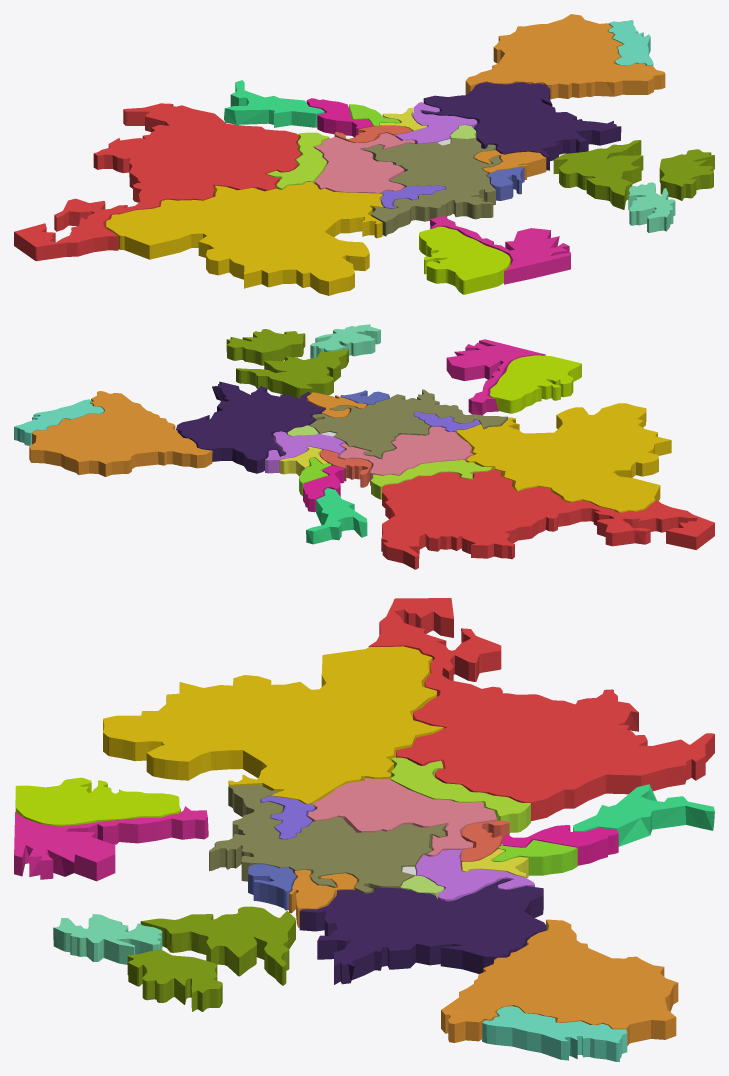
The model's file is Carteeuropedavid04.fbx.
The picture shows the model from 3 angles, top to bottom: view 1: azimuth 30°, elevation 25°; view 2: azimuth 150°, elevation 25°; view 3: azimuth 270°, elevation 25°; orthographic projection. The views are drawn at different scales.
Parts seen in each view (by area): view 1: Plane.003, Plane.023, Plane.018, Plane.012, Plane, Plane.021, Plane.015, Plane.002, Plane.020, Plane.022, Plane.016, Plane.017 (+10 smaller); view 2: Plane.023, Plane.003, Plane.018, Plane.012, Plane, Plane.021, Plane.015, Plane.002, Plane.020, Plane.016, Plane.022, Plane.017 (+10 smaller); view 3: Plane.003, Plane.023, Plane.012, Plane.018, Plane, Plane.020, Plane.002, Plane.015, Plane.021, Plane.019, Plane.016, Plane.022 (+10 smaller).
Boxes of the visible parts, box(x1,y1,x2,y2) form: Plane.003: box(106, 182, 383, 295); Plane.023: box(14, 103, 300, 261); Plane.018: box(465, 14, 665, 99); Plane.012: box(422, 82, 621, 170); Plane: box(363, 138, 501, 236); Plane.021: box(419, 226, 510, 294); Plane.015: box(553, 140, 643, 209); Plane.002: box(314, 133, 414, 193); Plane.020: box(430, 216, 570, 284); Plane.022: box(224, 80, 324, 127); Plane.016: box(659, 149, 714, 200); Plane.017: box(628, 182, 675, 232); Plane.023: box(381, 469, 714, 569); Plane.003: box(456, 403, 671, 512); Plane.018: box(29, 391, 212, 476); Plane.012: box(176, 381, 325, 473); Plane: box(309, 389, 508, 459); Plane.021: box(490, 355, 581, 413); Plane.015: box(236, 348, 348, 398); Plane.002: box(339, 426, 473, 485); Plane.020: box(446, 339, 545, 415); Plane.016: box(226, 329, 305, 365); Plane.022: box(306, 488, 367, 544); Plane.017: box(310, 324, 380, 358); Plane.003: box(103, 646, 443, 805); Plane.023: box(368, 598, 714, 821); Plane.012: box(299, 879, 546, 984); Plane.018: box(441, 919, 678, 1045); Plane: box(209, 785, 445, 893); Plane.020: box(14, 806, 208, 881); Plane.002: box(307, 778, 496, 856); Plane.015: box(140, 906, 295, 985); Plane.021: box(15, 777, 180, 826); Plane.019: box(482, 1006, 627, 1061); Plane.016: box(127, 949, 222, 1011); Plane.022: box(573, 784, 714, 846).
Size of the model in its own units: 494 by 10.35 by 329.
